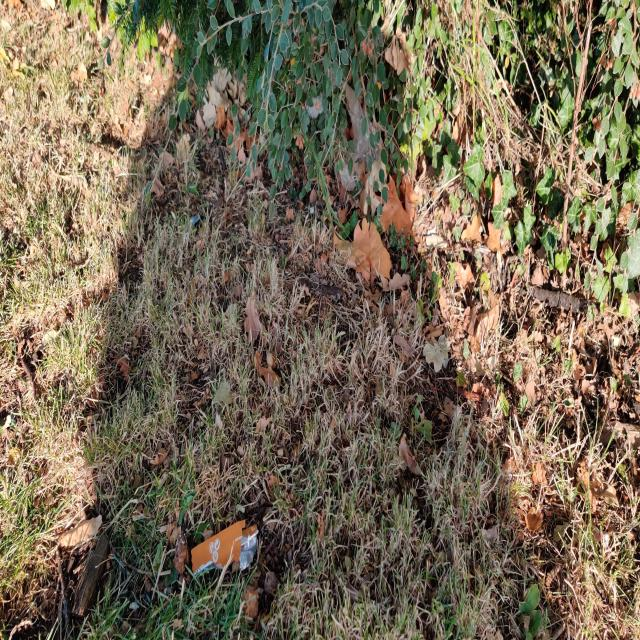litter: (187, 506, 253, 594)
